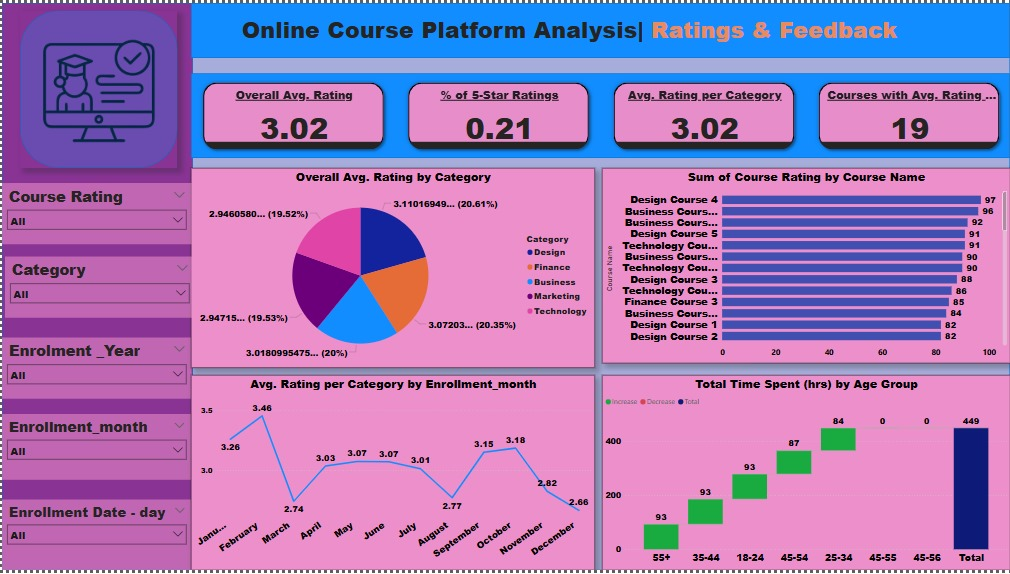

The page's visual inventory and layout, read from the dashboard file:
{"tool":"powerbi","page":{"name":"Ratings & Feedback","canvas":[1920,1080],"ordinal":3},"visuals":[{"type":"shape","box":[0,0,1920.1,1080.8],"z":0},{"type":"shape","box":[0,0,363.5,1080.8],"z":1000},{"type":"shape","box":[361.1,134.2,1559,161],"z":2000},{"type":"shape","box":[366.7,713.9,494.4,366.7],"z":3000},{"type":"shape","box":[363.5,319.6,495.3,366],"z":4000},{"type":"shape","box":[1424.9,319.6,495.3,366],"z":5000},{"type":"shape","box":[361.1,0,1559,104.9],"z":6000},{"type":"textbox","box":[363.9,13.9,1436.1,91.7],"z":7000},{"type":"image","box":[2.4,19.5,363.5,295.2],"z":8000},{"type":"shape","box":[34.2,14.6,300.1,300.1],"z":9000},{"type":"cardVisual","fields":{"Data":["OnlineLearningPlatform.Overall Avg. Rating","OnlineLearningPlatform.% of 5-Star Ratings","OnlineLearningPlatform.Avg. Rating per Category","OnlineLearningPlatform.Courses with Avg. Rating < 3"]},"box":[366,134.2,1554.2,161],"z":10000},{"type":"slicer","fields":{"Values":["OnlineLearningPlatform.Enrolment _Year"]},"box":[0,636.1,361.1,116.7],"z":12000},{"type":"slicer","fields":{"Values":["OnlineLearningPlatform.Enrollment_month"]},"box":[0,783.3,361.1,125],"z":13000},{"type":"slicer","fields":{"Values":["OnlineLearningPlatform.Enrollment Date - day"]},"box":[0,944.4,361.1,136.1],"z":14000},{"type":"shape","box":[363.9,213.9,494.4,300],"z":15000},{"type":"pieChart","fields":{"Y":["OnlineLearningPlatform.Overall Avg. Rating"],"Category":["OnlineLearningPlatform.Category"]},"box":[361.1,313.9,769.4,380.6],"z":16000},{"type":"clusteredBarChart","fields":{"Category":["OnlineLearningPlatform.Course Name"],"Y":["Sum(OnlineLearningPlatform.Course Rating)"]},"box":[1141.7,313.9,777.8,372.2],"z":17000},{"type":"lineChart","fields":{"Category":["OnlineLearningPlatform.Enrollment_month"],"Y":["OnlineLearningPlatform.Avg. Rating per Category"]},"box":[361.1,708.3,769.4,372.2],"z":18000},{"type":"waterfallChart","fields":{"Category":["OnlineLearningPlatform.Age Group"],"Y":["OnlineLearningPlatform.Total Time Spent (hrs)"]},"box":[1141.7,708.3,777.8,372.2],"z":19000},{"type":"slicer","fields":{"Values":["OnlineLearningPlatform.Category"]},"box":[5.6,483.3,361.1,116.7],"z":20000},{"type":"slicer","fields":{"Values":["OnlineLearningPlatform.Course Rating"]},"box":[0,341.7,361.1,116.7],"z":21000}]}

Visuals, with their boxes in screenshot pixels (x1, y1, x2, y2), scaled from the page's 1920x1080 canvas onto the 1010x574 screenshot:
shape: 0/0/1009/573
shape: 0/0/191/573
shape: 190/71/1009/157
shape: 193/379/453/573
shape: 191/170/452/364
shape: 750/170/1009/364
shape: 190/0/1009/56
textbox: 191/7/947/56
image: 1/10/192/167
shape: 18/8/176/167
cardVisual - OnlineLearningPlatform.Overall Avg. Rating x OnlineLearningPlatform.% of 5-Star Ratings: 193/71/1009/157
slicer - OnlineLearningPlatform.Enrolment _Year: 0/338/190/400
slicer - OnlineLearningPlatform.Enrollment_month: 0/416/190/483
slicer - OnlineLearningPlatform.Enrollment Date - day: 0/502/190/573
shape: 191/114/452/273
pieChart - OnlineLearningPlatform.Overall Avg. Rating x OnlineLearningPlatform.Category: 190/167/595/369
clusteredBarChart - OnlineLearningPlatform.Course Name x Sum(OnlineLearningPlatform.Course Rating): 601/167/1009/365
lineChart - OnlineLearningPlatform.Enrollment_month x OnlineLearningPlatform.Avg. Rating per Category: 190/376/595/573
waterfallChart - OnlineLearningPlatform.Age Group x OnlineLearningPlatform.Total Time Spent (hrs): 601/376/1009/573
slicer - OnlineLearningPlatform.Category: 3/257/193/319
slicer - OnlineLearningPlatform.Course Rating: 0/182/190/244
